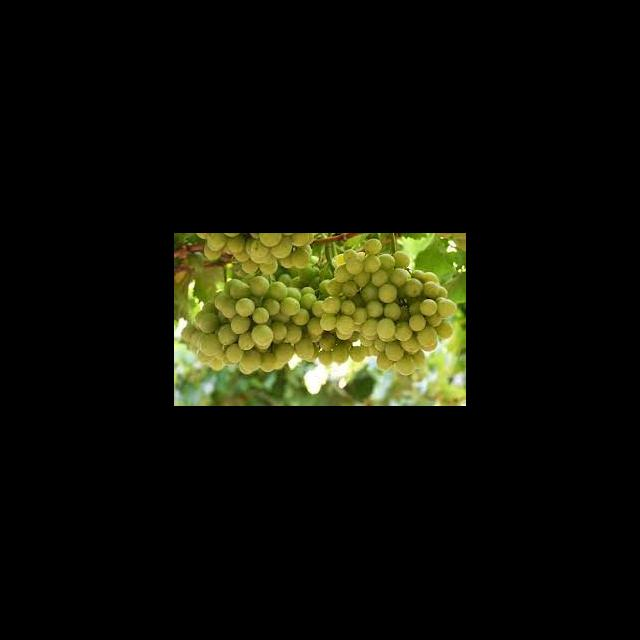grape: (180, 234, 457, 376)
